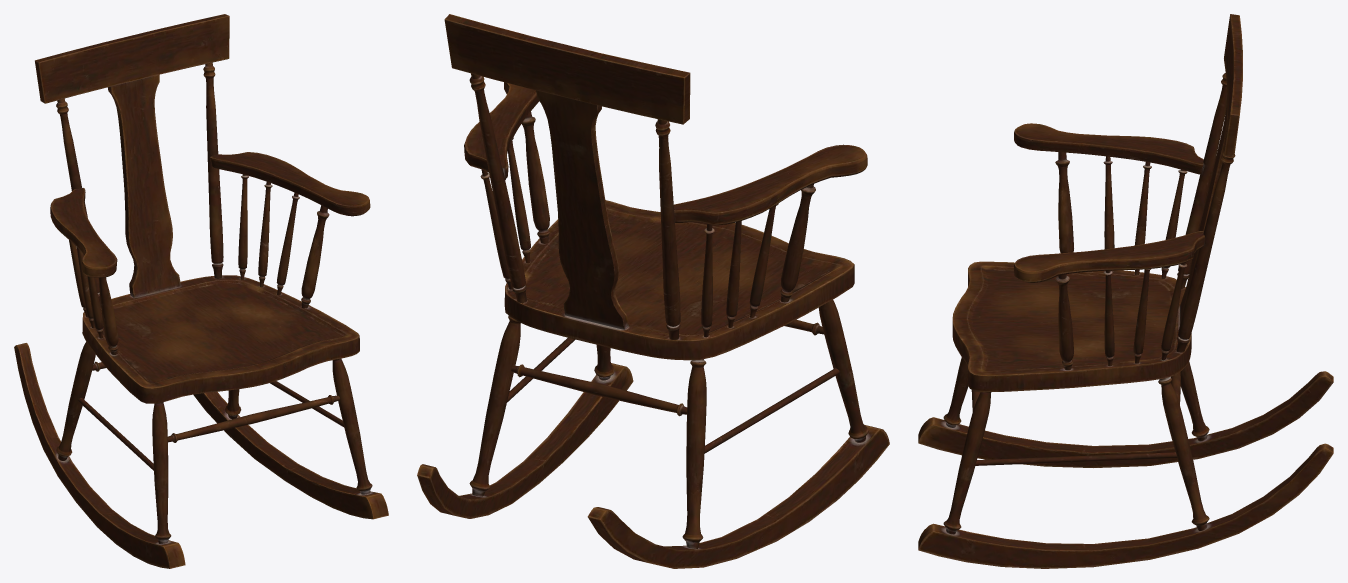
Rendered from Rockingchair_01.glb.
3 renders of one model, left to right at view 1: azimuth 30°, elevation 25°; view 2: azimuth 150°, elevation 25°; view 3: azimuth 270°, elevation 25°, orthographic. The views are drawn at different scales.
Parts seen in each view (by area): view 1: Rockingchair_01; view 2: Rockingchair_01; view 3: Rockingchair_01.
Part boxes in pixels (box(x1,y1,x2,y2)): Rockingchair_01: box(14, 14, 388, 568); Rockingchair_01: box(417, 14, 889, 568); Rockingchair_01: box(918, 14, 1333, 568).
Size of the model in its own units: 0.7081 by 0.9949 by 0.8335.
Materials: 1 (1 with a texture image).
